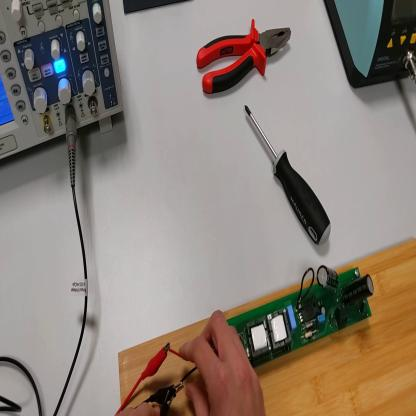hand: (178, 317, 268, 416), (119, 399, 163, 415)
high voltage board: (169, 263, 374, 384)
oscilloscope: (2, 1, 125, 163)
pliers: (195, 18, 294, 99)
screwdriver-: (246, 107, 333, 248)
welder station: (324, 2, 416, 89)
working area: (120, 240, 416, 416)
